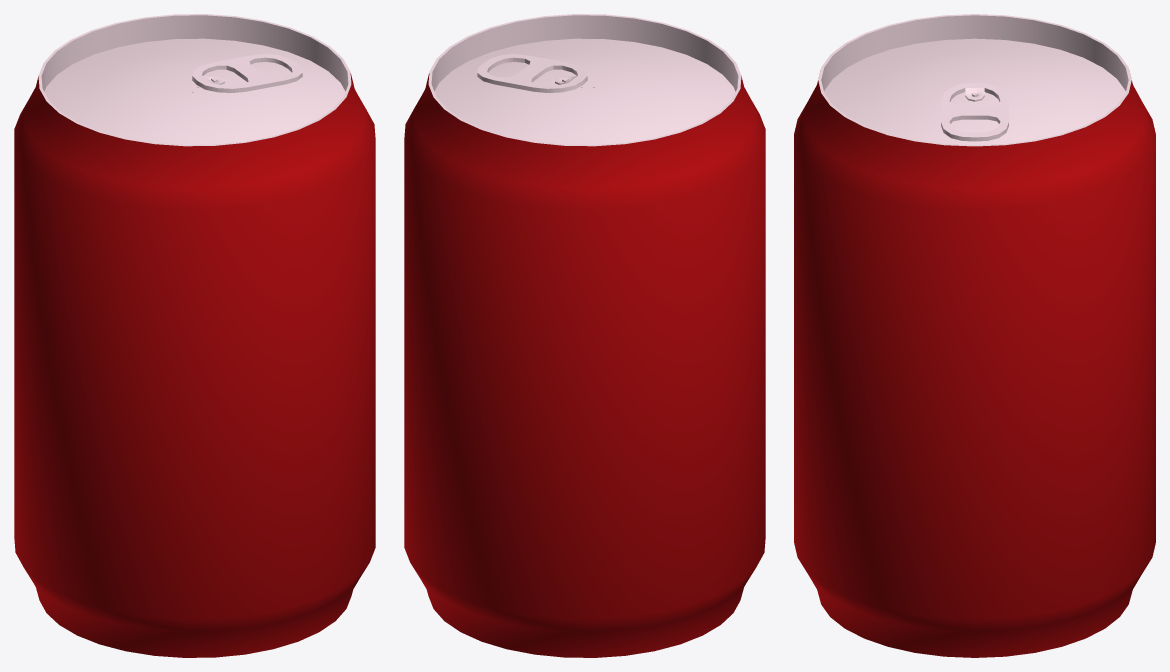
File: soda_can.gltf
The picture shows the model from 3 angles, left to right: view 1: azimuth 30°, elevation 25°; view 2: azimuth 150°, elevation 25°; view 3: azimuth 270°, elevation 25°; orthographic projection.
Visible parts, largest first — view 1: Cylinder; view 2: Cylinder; view 3: Cylinder.
Part boxes in pixels (x1,y1,x2,y2): Cylinder: [14, 14, 375, 657]; Cylinder: [404, 14, 765, 657]; Cylinder: [794, 14, 1155, 657].
Size of the model in its own units: 0.0775 by 0.1208 by 0.0775.
Materials: 1 (1 with a texture image).
